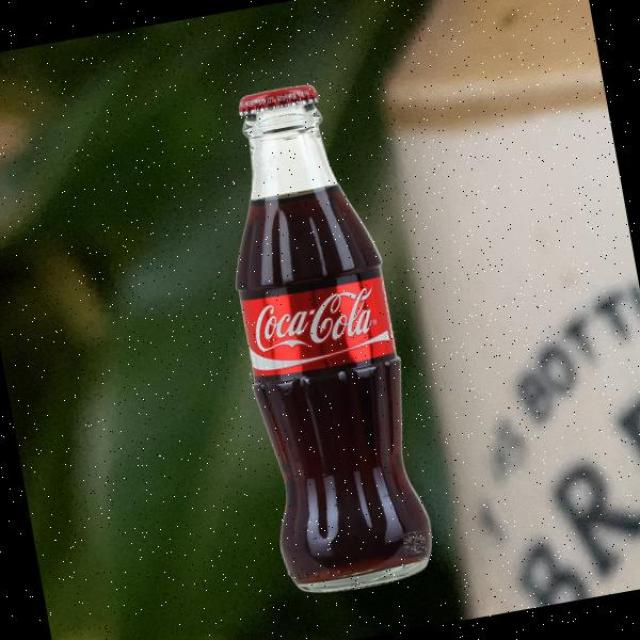coca-cola: (197, 68, 447, 603)
